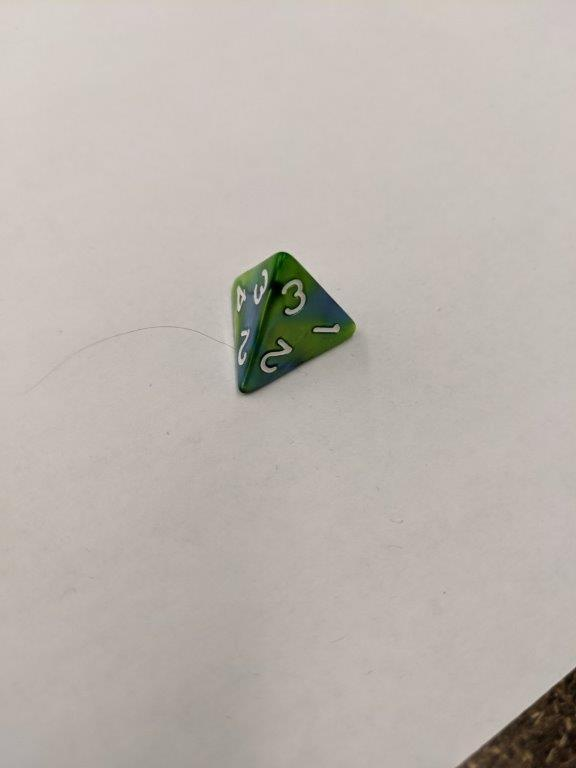d4-3: (229, 249, 362, 399)
